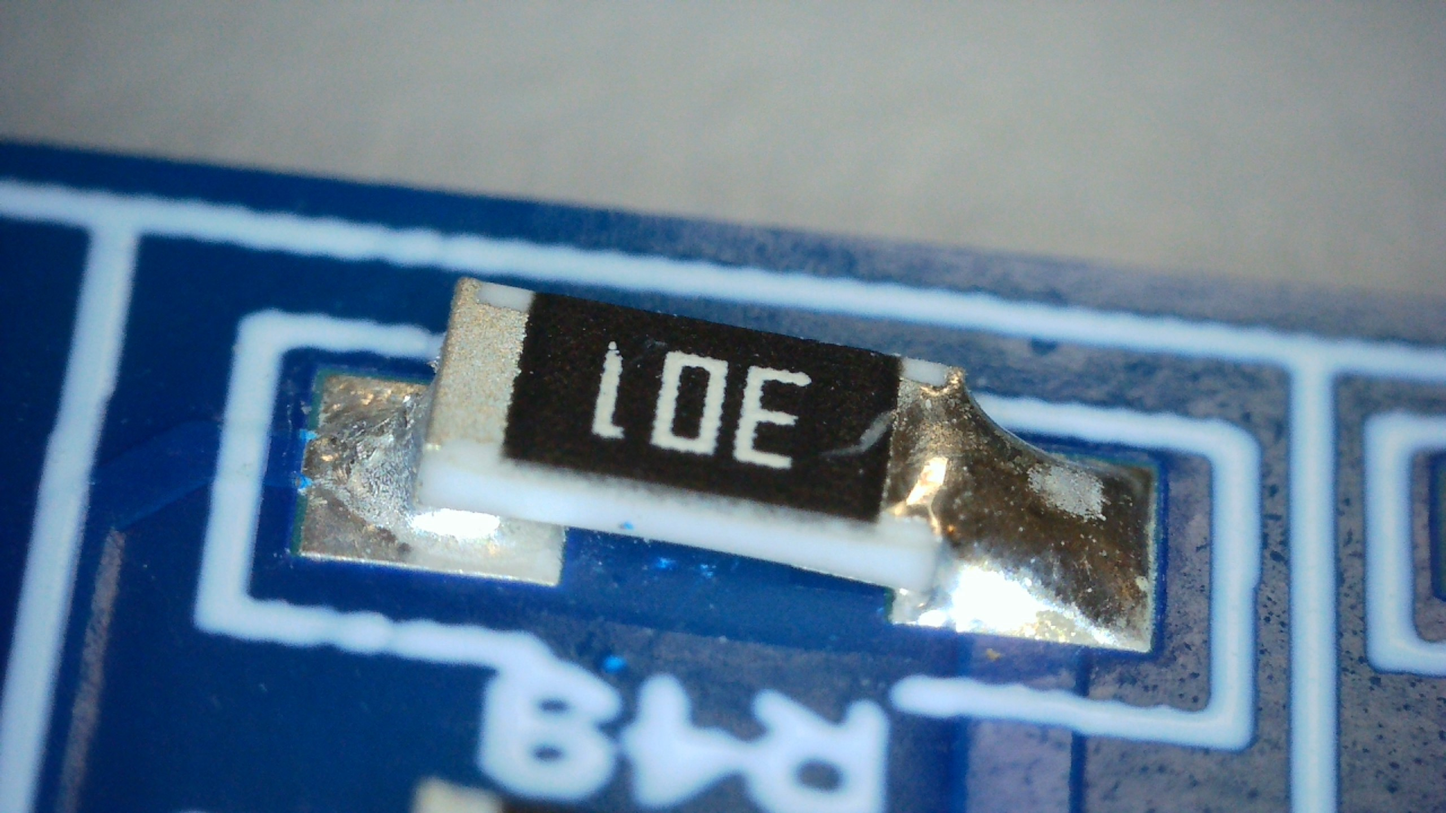NG: (306, 278, 533, 535)
OK: (878, 358, 1152, 643)
